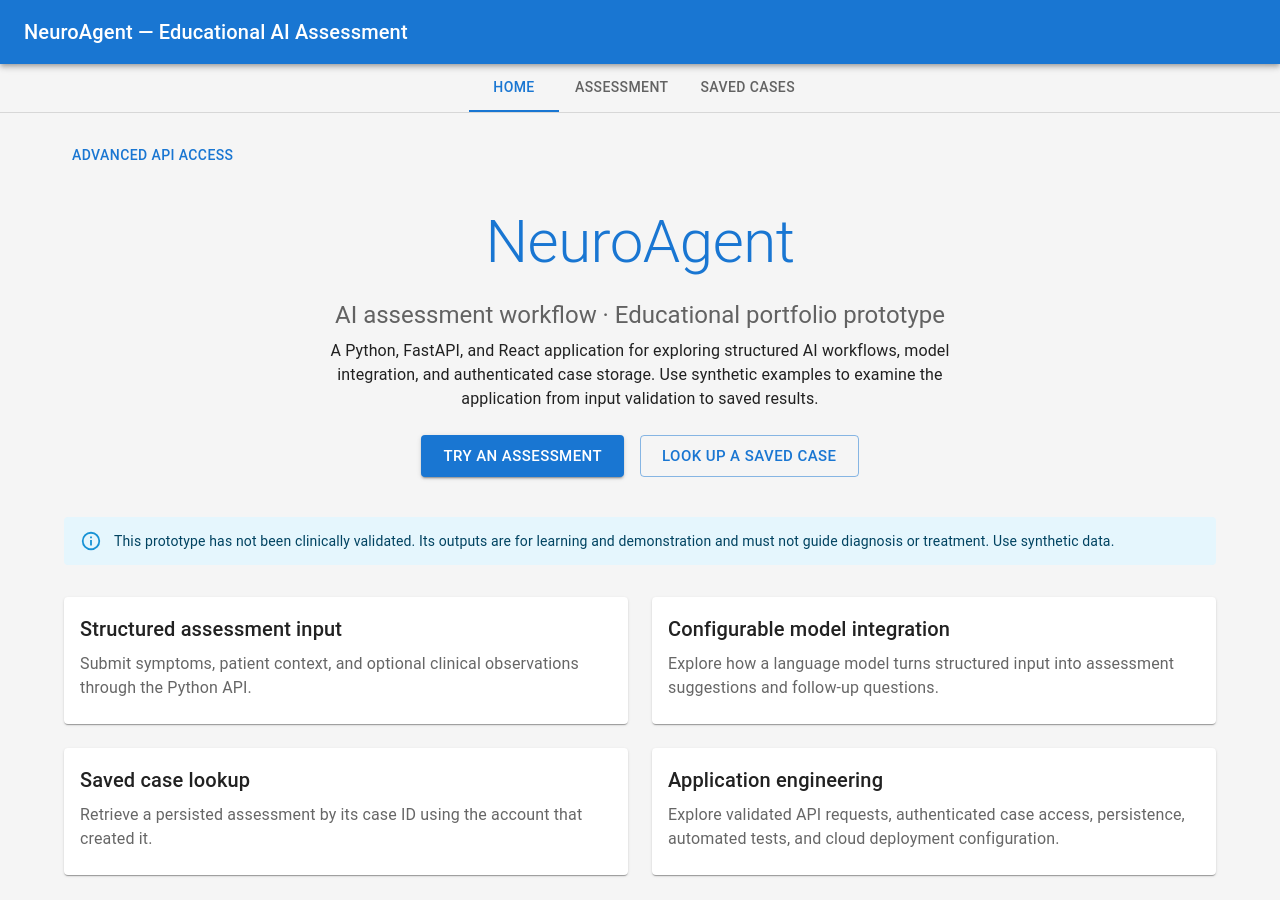
Test: keeps assessment and case routes working with the actual router
What coordinates should you click on to do the following:
click the button "Look up a saved case"
I would click on:
 (749, 456)
Its box is [640, 435, 858, 477].
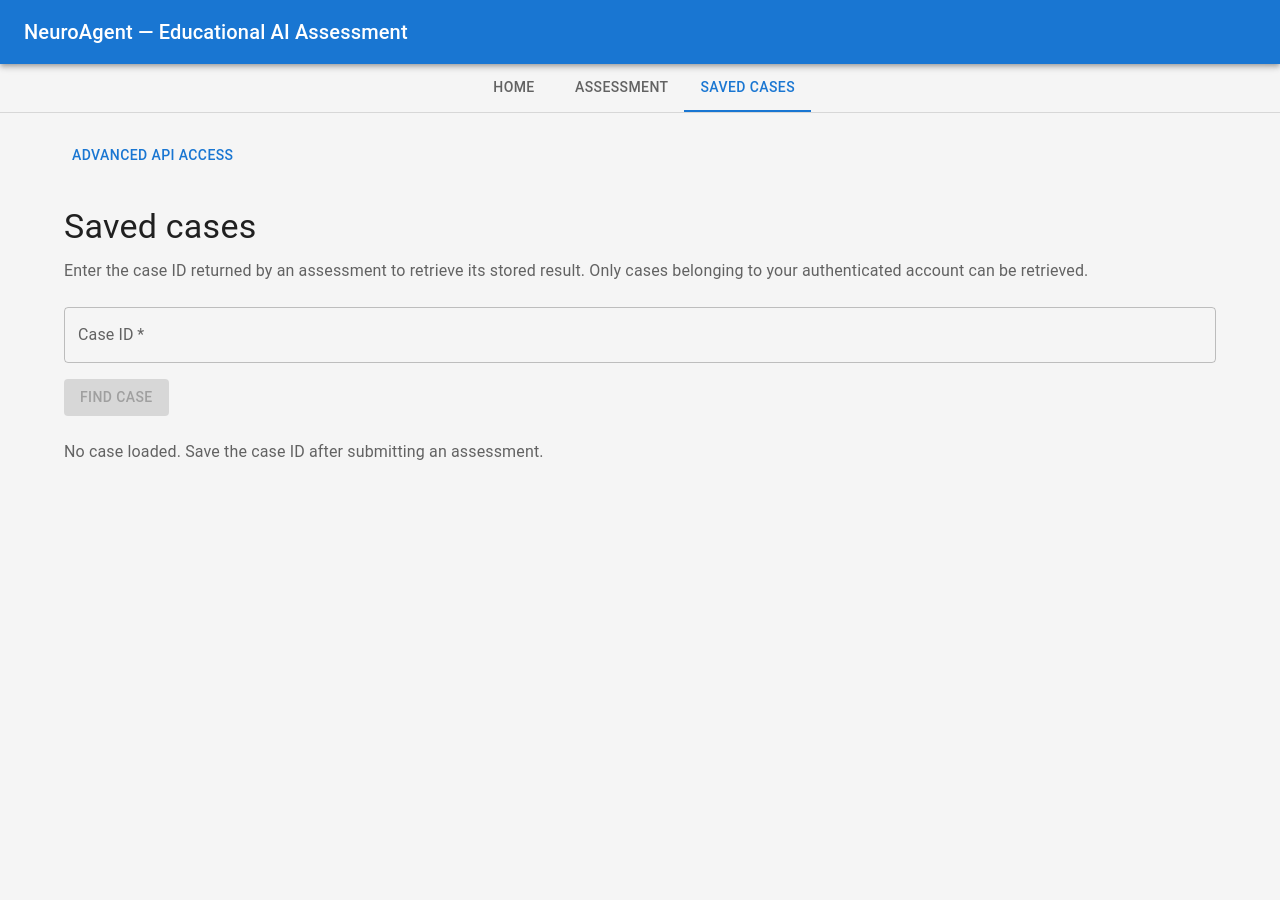
Now the heading "Saved cases" is shown, box [64, 206, 256, 246]
What coordinates should you click on to do the following:
click the tab "Home"
I would click on:
 (514, 88)
Its box is [469, 64, 559, 112].
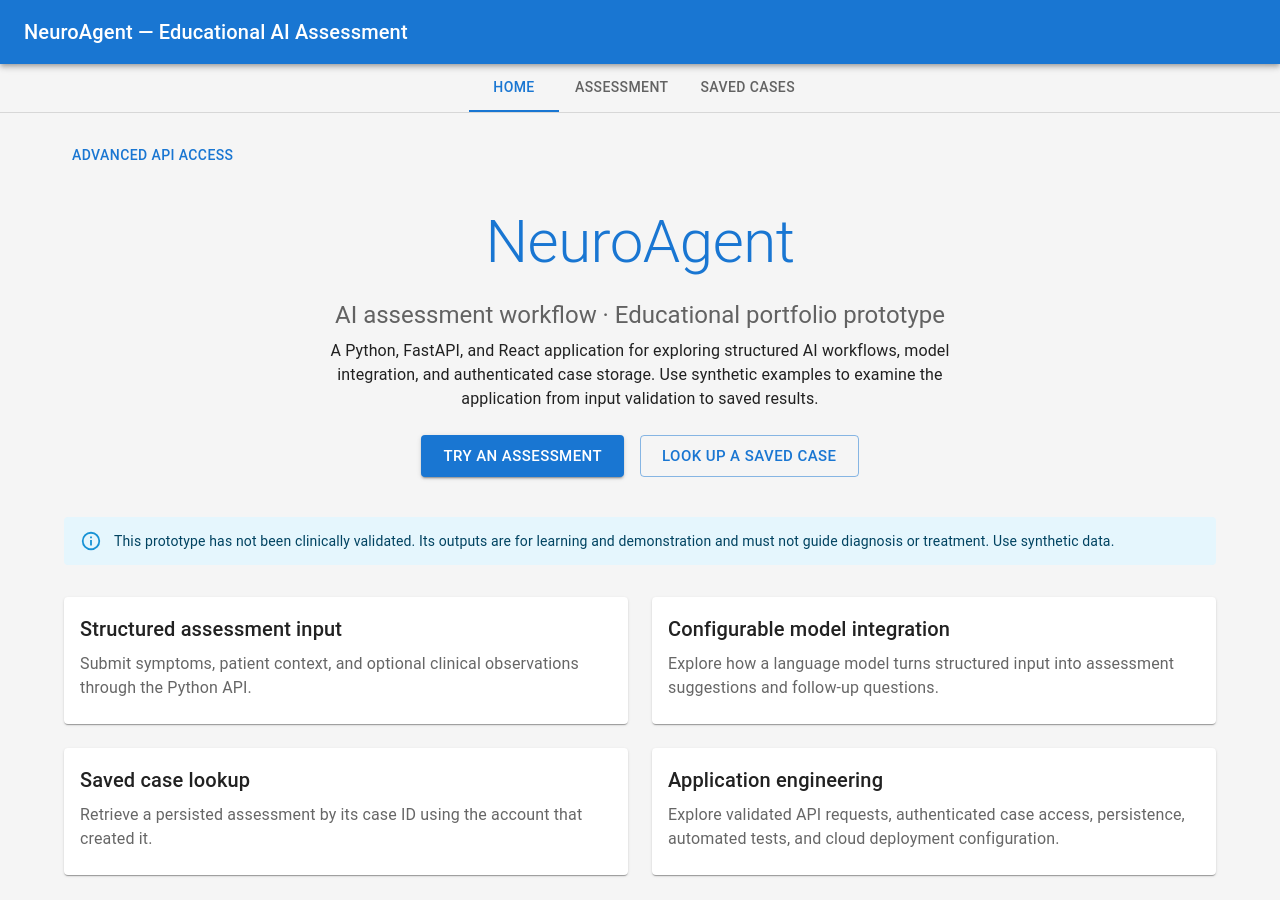
What coordinates should you click on to do the following:
click the button "Try an assessment"
I would click on:
 (523, 456)
Its box is [422, 435, 624, 477].
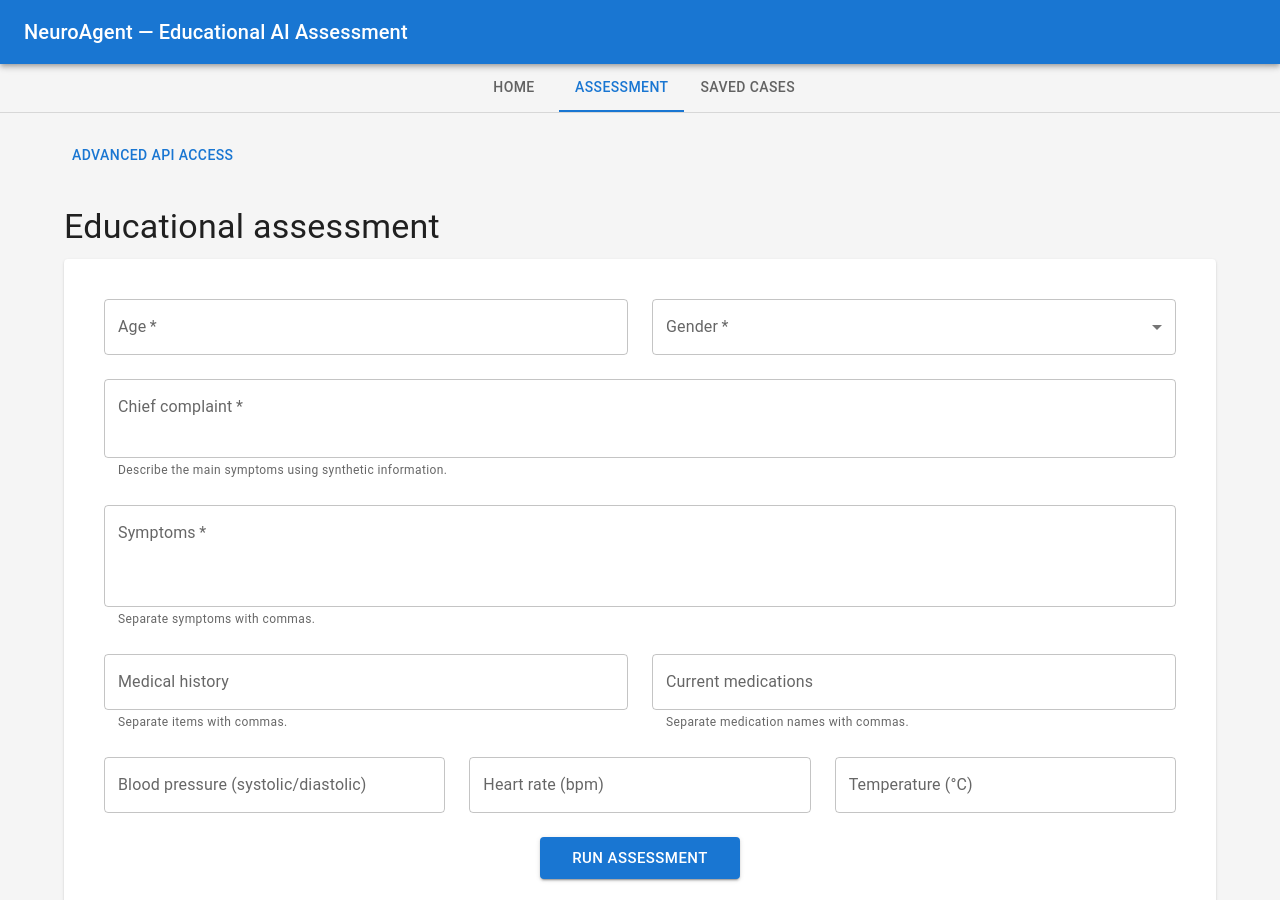
Now the heading "Educational assessment" is shown, box [64, 206, 440, 246]
